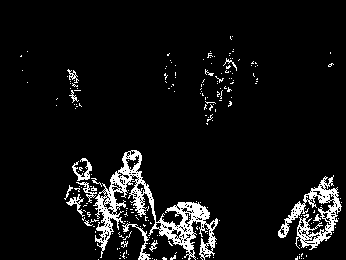person: (275, 170, 342, 260), (107, 146, 159, 253), (64, 157, 115, 260), (138, 198, 218, 260)
